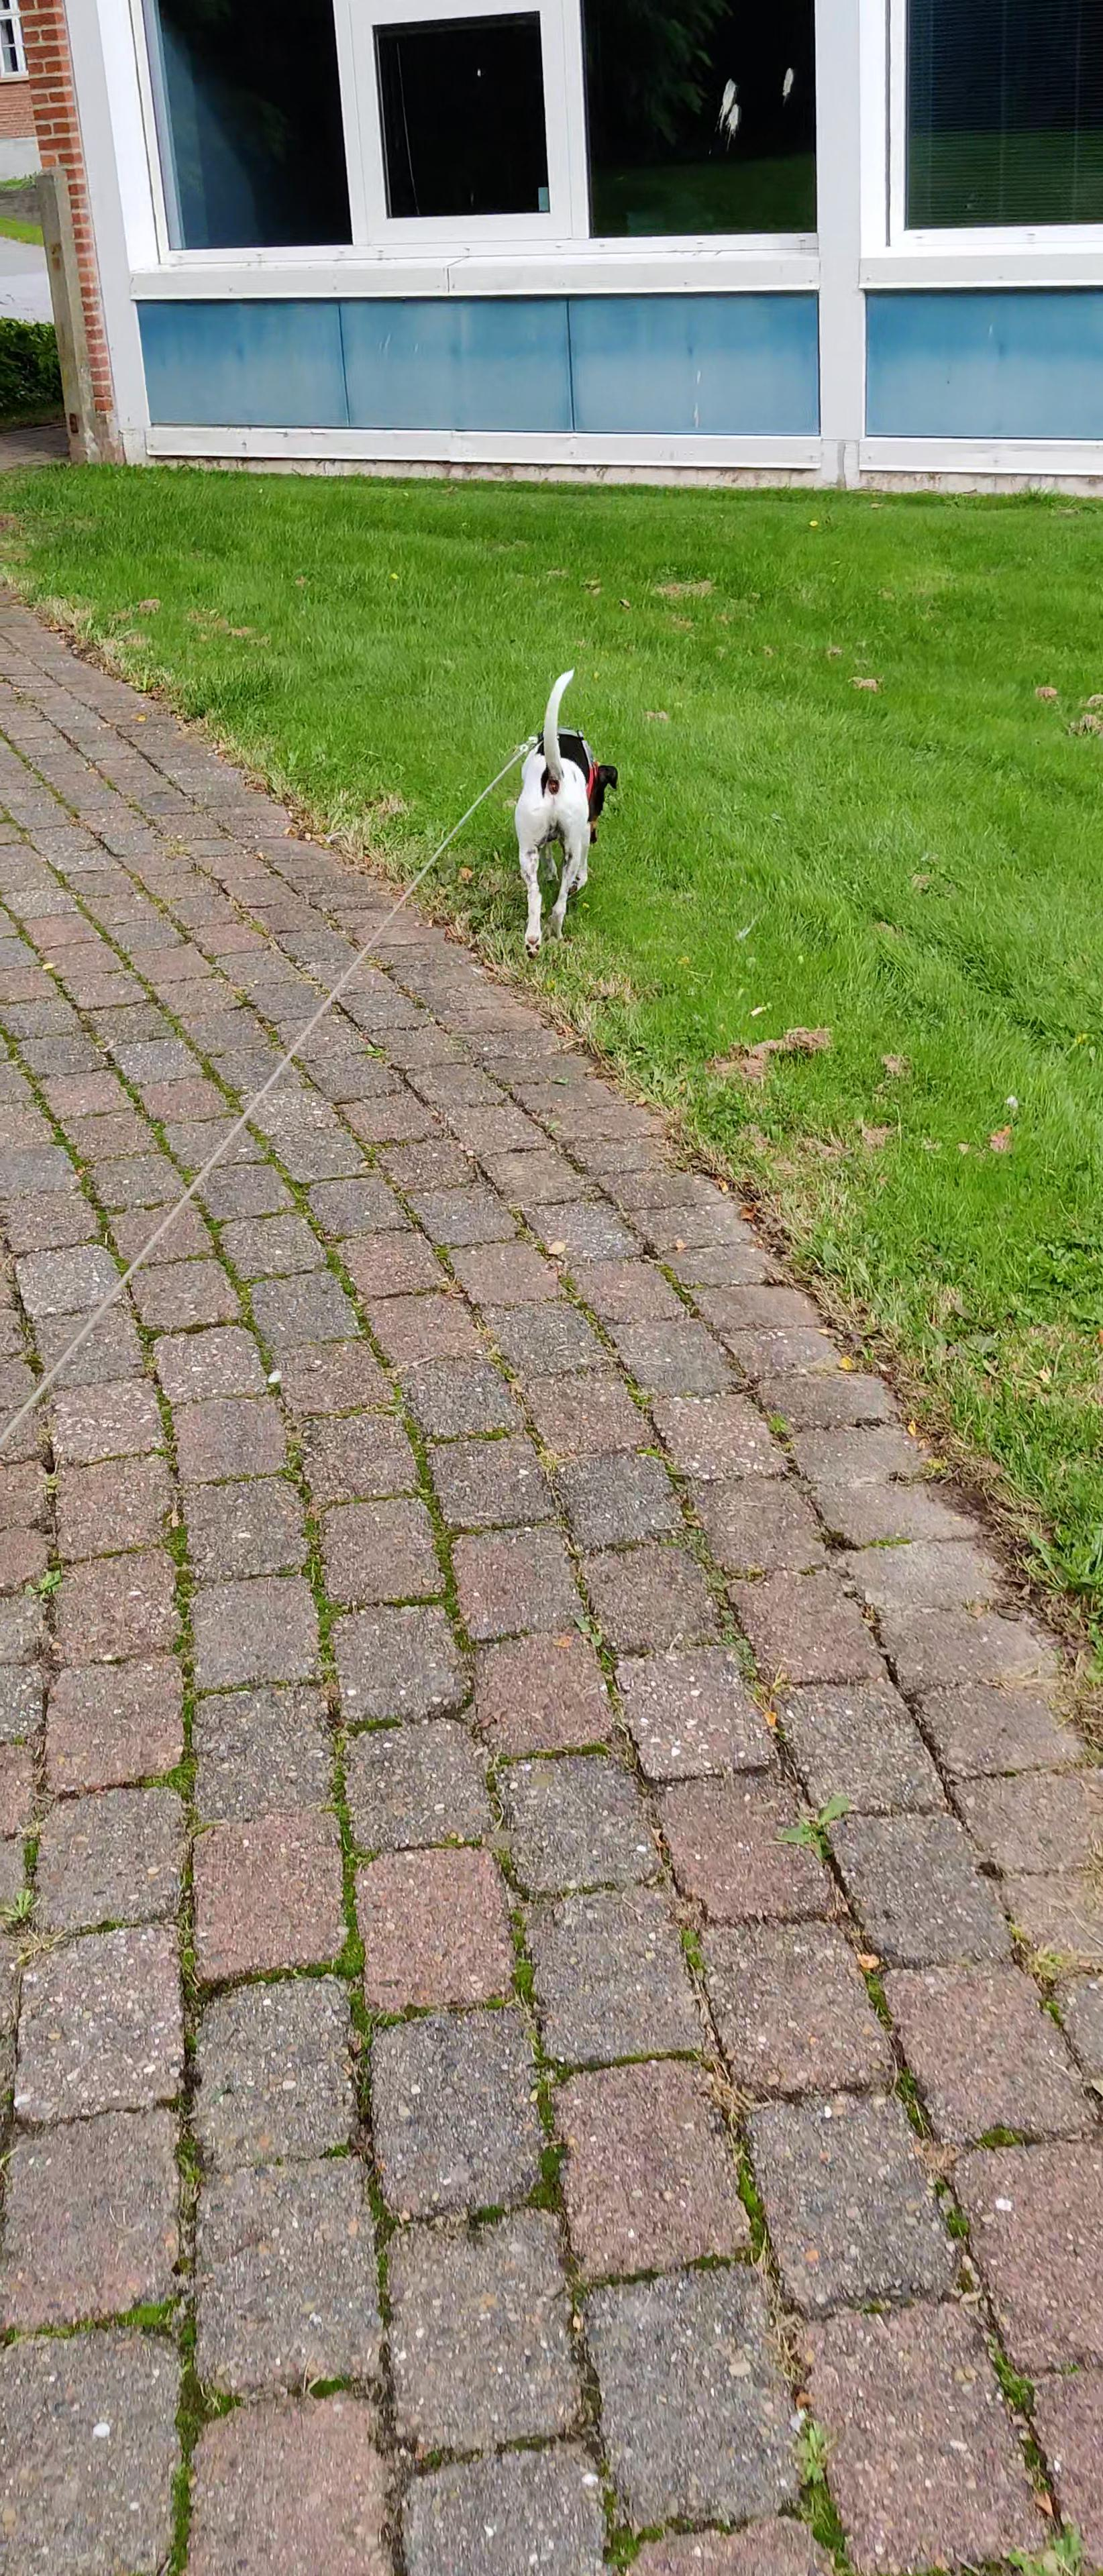Dog: (510, 667, 621, 959)
